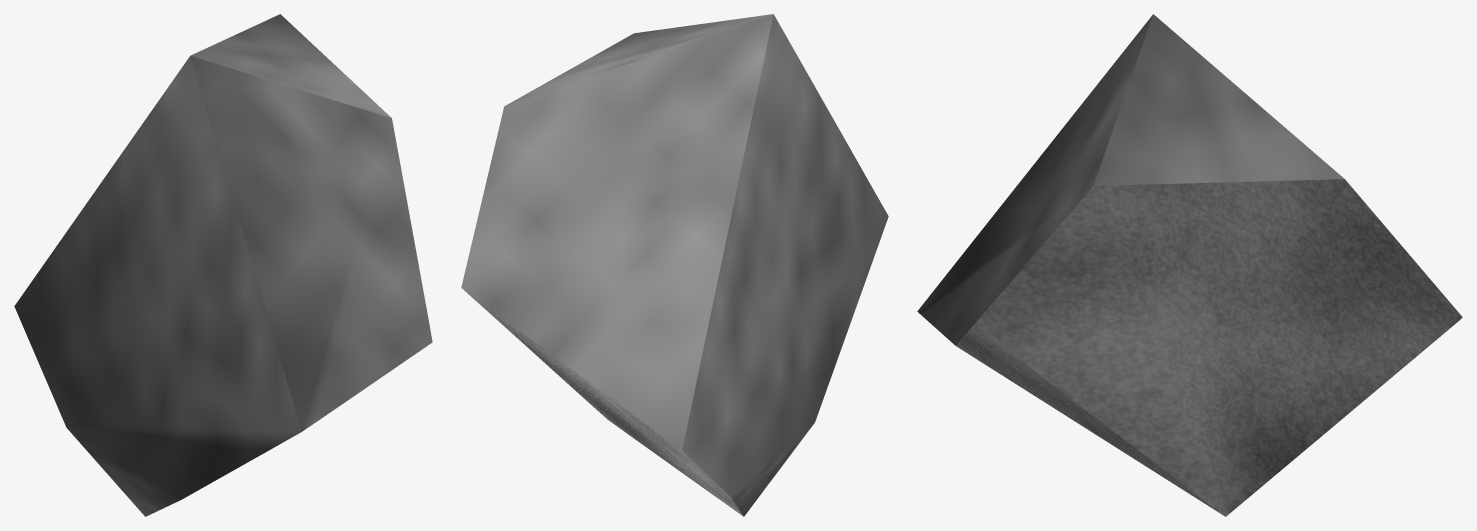
File: leg_4_cell_002.fbx
The picture shows the model from 3 angles, left to right: view 1: azimuth 30°, elevation 25°; view 2: azimuth 150°, elevation 25°; view 3: azimuth 270°, elevation 25°; orthographic projection. The views are drawn at different scales.
Parts seen in each view (by area): view 1: leg_4_cell.002; view 2: leg_4_cell.002; view 3: leg_4_cell.002.
Boxes of the visible parts, x1=… form: leg_4_cell.002: x1=14, y1=14, x2=432, y2=516; leg_4_cell.002: x1=461, y1=14, x2=888, y2=516; leg_4_cell.002: x1=917, y1=14, x2=1462, y2=516.
Bounding box in the file's own units: 14.25 × 29.56 × 29.21.
